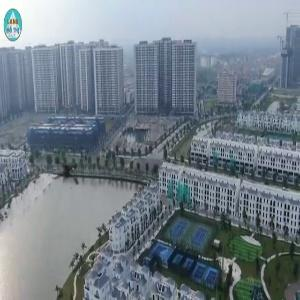drone: (18, 127, 114, 223)
